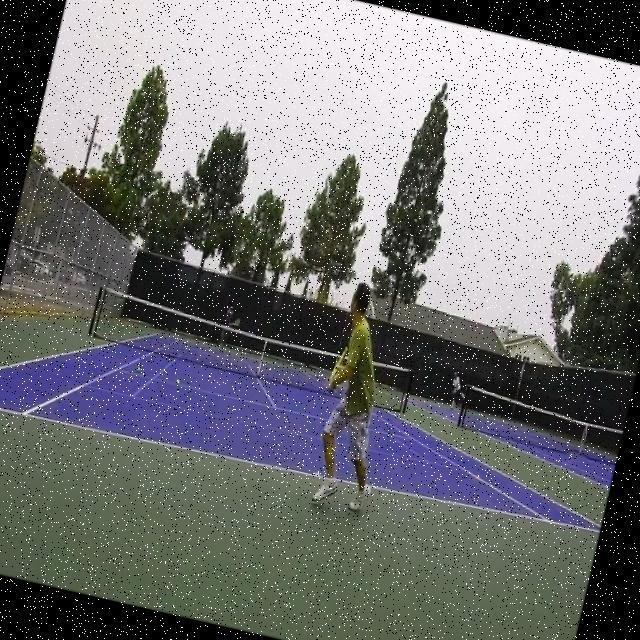court: (0, 297, 620, 548)
net: (83, 280, 418, 414)
player: (301, 280, 415, 515)
